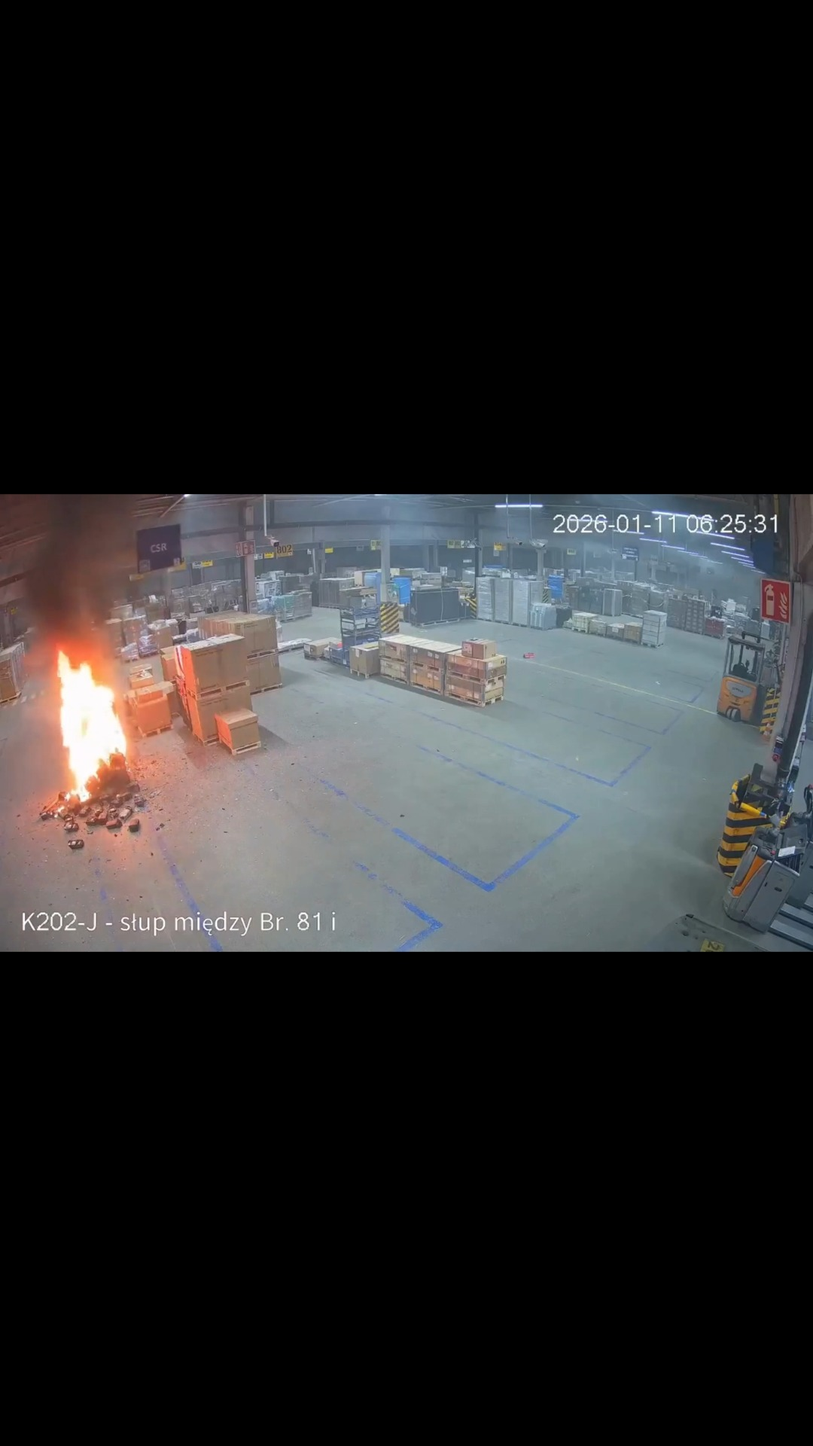fire: (46, 639, 136, 814)
smoke: (1, 496, 136, 657)
